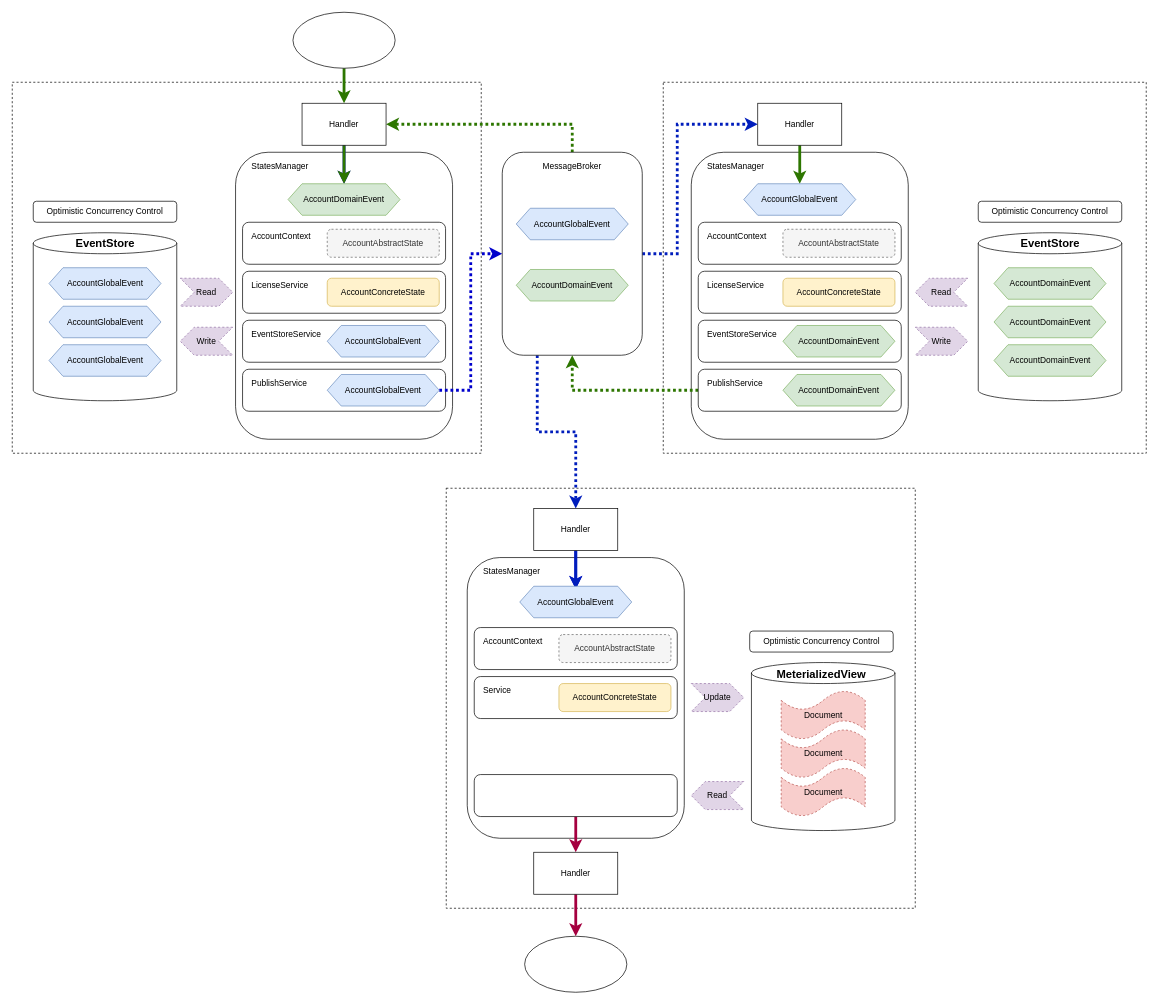
Image size: 1159x1005. Some labels were removed from this diagram. Here are the shapes that lost their labels. From the top down, the centre of each, then its label:
At point (343, 40): "Command".
At point (575, 795): "MeterializedViewService".
At point (575, 964): "Query".
